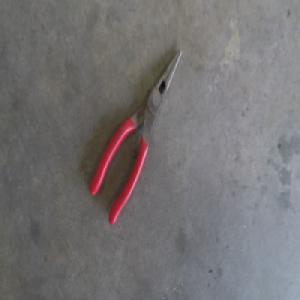Pliers: (90, 42, 183, 221)
